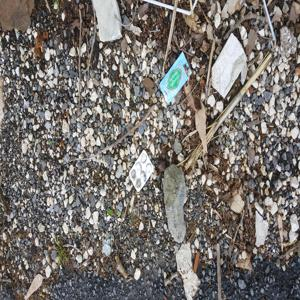plastic: (215, 37, 257, 99), (119, 148, 162, 191), (159, 53, 198, 100)
